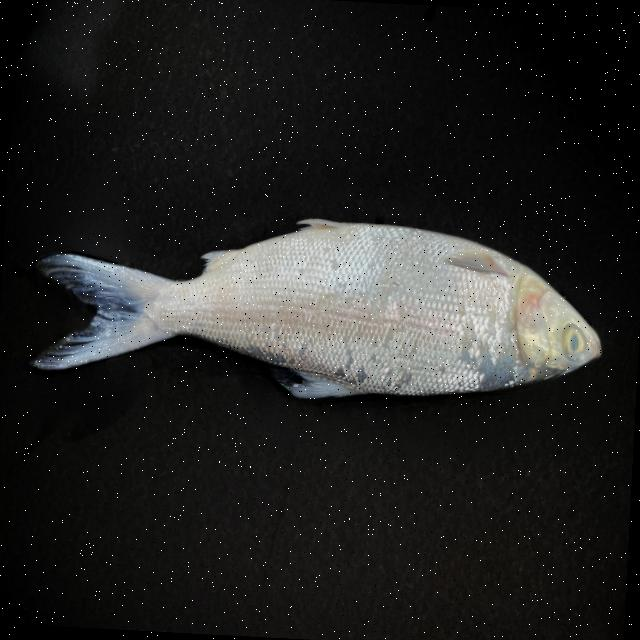805 g: (32, 204, 608, 413)
